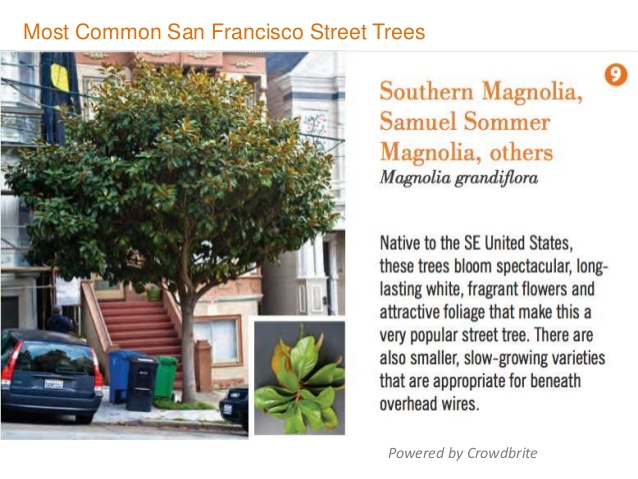tree: (1, 56, 342, 406)
